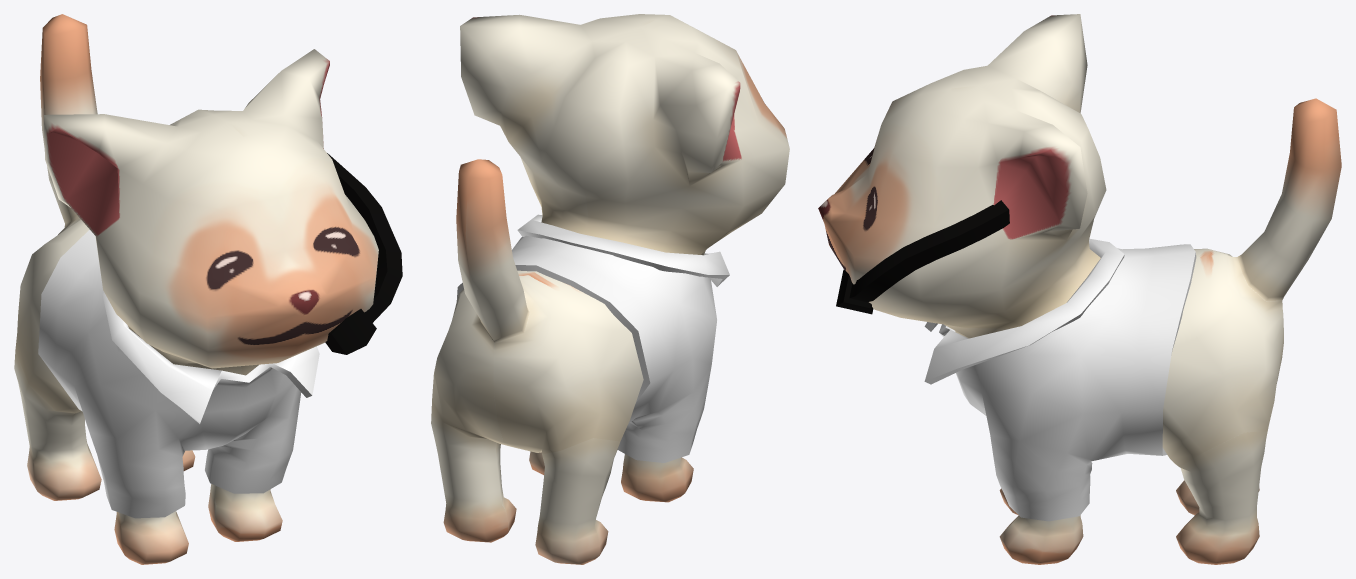
Rendered from Conference Cat02.fbx.
The picture shows the model from 3 angles, left to right: view 1: azimuth 30°, elevation 25°; view 2: azimuth 150°, elevation 25°; view 3: azimuth 270°, elevation 25°; orthographic projection. The views are drawn at different scales.
Visible parts, largest first — view 1: Cat_Base001, Conference_Cat_Shirt, Conference_Cat_Mic; view 2: Cat_Base001, Conference_Cat_Shirt; view 3: Cat_Base001, Conference_Cat_Shirt, Conference_Cat_Mic.
Part boxes in pixels (x1,y1,x2,y2): Cat_Base001: [14, 14, 378, 564]; Conference_Cat_Shirt: [38, 229, 319, 518]; Conference_Cat_Mic: [325, 153, 402, 354]; Cat_Base001: [431, 14, 789, 564]; Conference_Cat_Shirt: [456, 214, 729, 462]; Cat_Base001: [818, 14, 1341, 564]; Conference_Cat_Shirt: [924, 238, 1196, 521]; Conference_Cat_Mic: [836, 200, 1009, 314].
Bounding box in the file's own units: 1.75 × 2.83 × 2.68.
3 materials, 1 textured.
